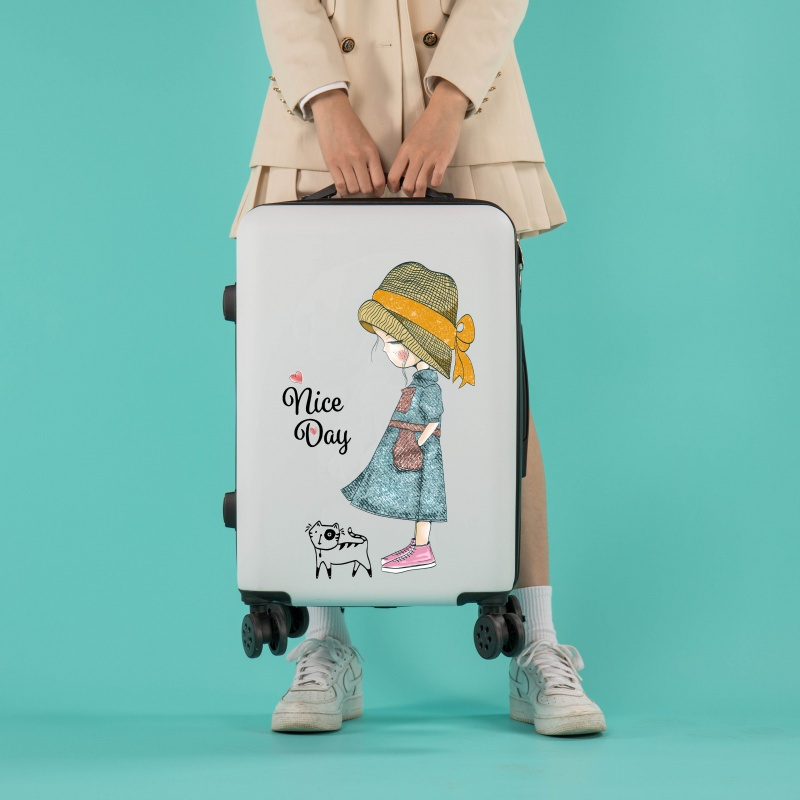box: (236, 203, 520, 607)
handle: (301, 172, 455, 201), (520, 320, 529, 478)
wheel: (473, 613, 526, 660), (241, 612, 288, 658), (264, 602, 310, 638)
